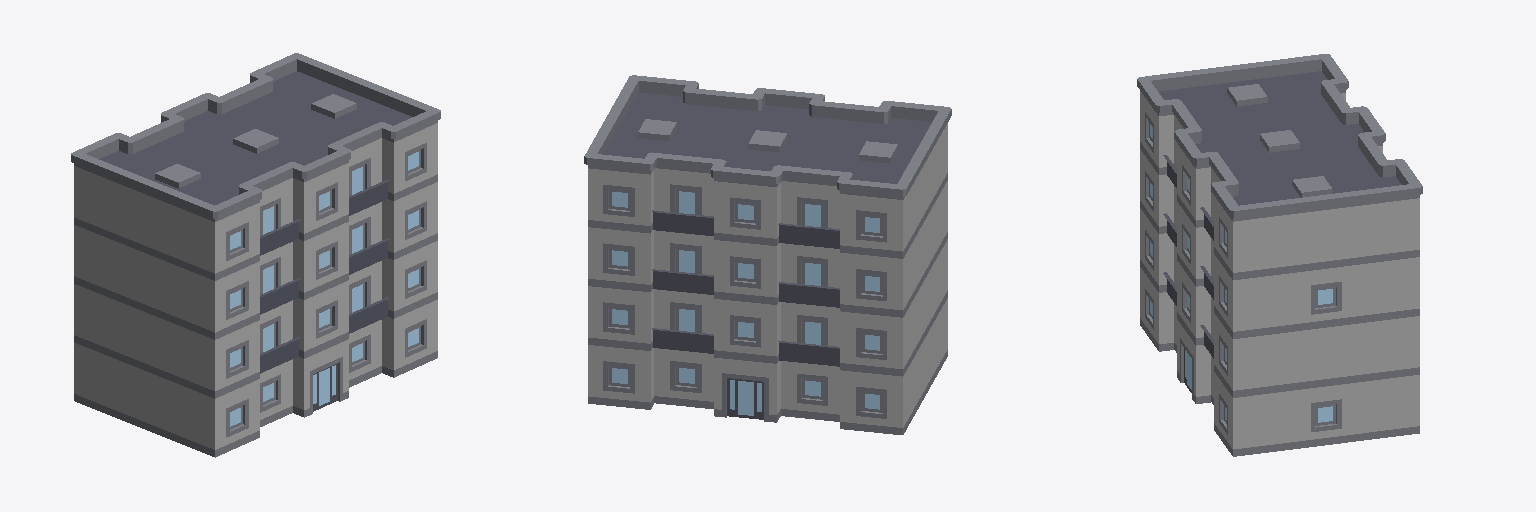
Rendered from large_buildingA.003.obj.
The picture shows the model from 3 angles: view 1: azimuth 30°, elevation 25°; view 2: azimuth 150°, elevation 25°; view 3: azimuth 270°, elevation 25°; orthographic projection.
Parts seen in each view (by area): view 1: large_buildingA.001; view 2: large_buildingA.001; view 3: large_buildingA.001.
Part boxes in pixels (x1,y1,x2,y2): large_buildingA.001: (71, 53, 440, 457); large_buildingA.001: (584, 75, 951, 434); large_buildingA.001: (1137, 54, 1422, 456).
Size of the model in its own units: 41.94 by 30.67 by 32.12.